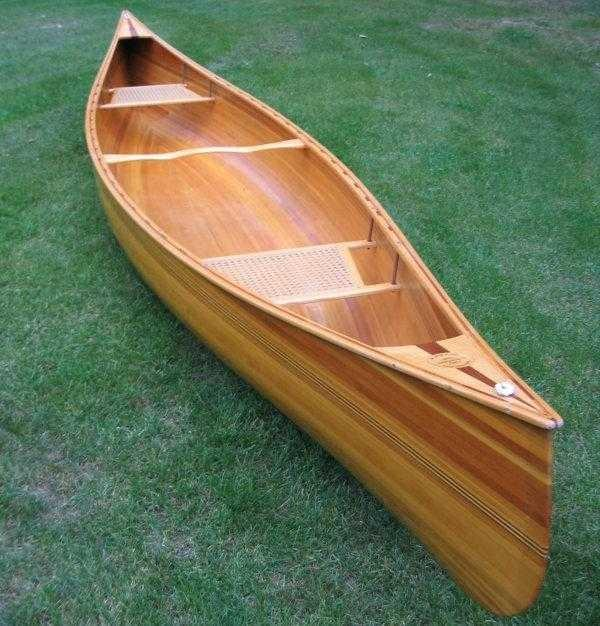kayak: (84, 5, 565, 619)
